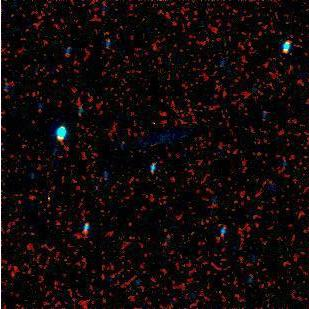star: (135, 103, 165, 133)
